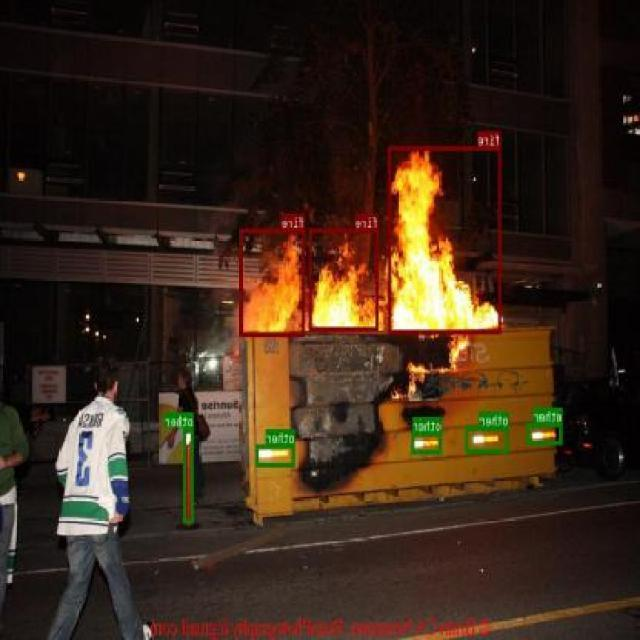Fire: (388, 145, 502, 333), (240, 228, 306, 336), (310, 228, 379, 330)
